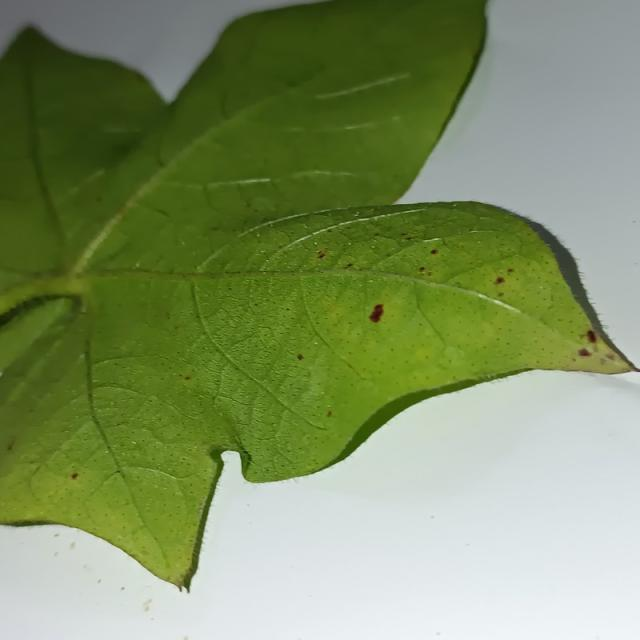Bacterial_Blight: (575, 332, 621, 367), (489, 268, 517, 296), (360, 302, 391, 326), (586, 329, 597, 343), (415, 267, 432, 276), (577, 347, 591, 357), (6, 437, 16, 451), (179, 373, 192, 381), (316, 251, 326, 259), (296, 353, 305, 361), (495, 277, 505, 284), (165, 311, 171, 320), (342, 264, 352, 269), (430, 249, 438, 255), (404, 236, 413, 241), (71, 473, 78, 479), (419, 266, 426, 272), (507, 268, 515, 273), (327, 410, 332, 417), (400, 232, 407, 236), (374, 232, 381, 236), (571, 357, 576, 362), (253, 302, 258, 307)
Cotton: (0, 0, 634, 588)
